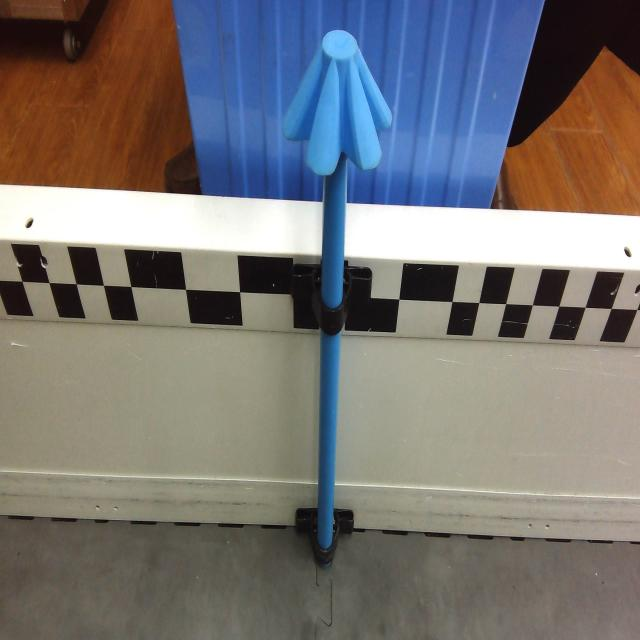zblue-Stake-Head: (282, 30, 393, 177)
